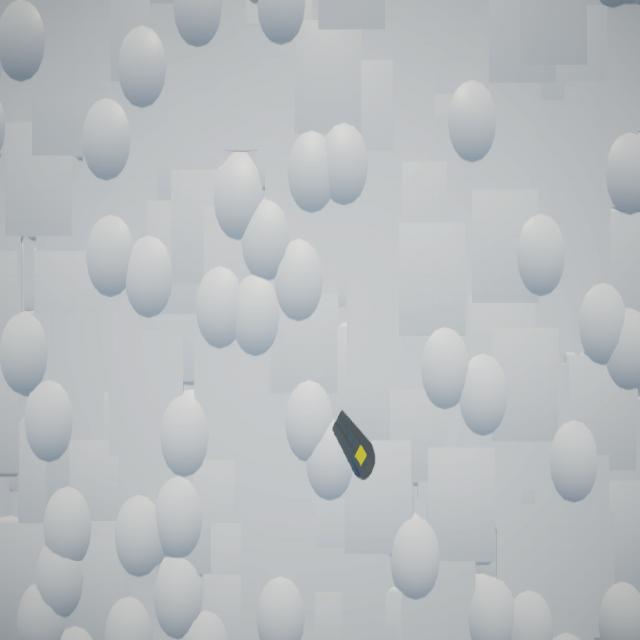handle_folk: (333, 410, 376, 481)
